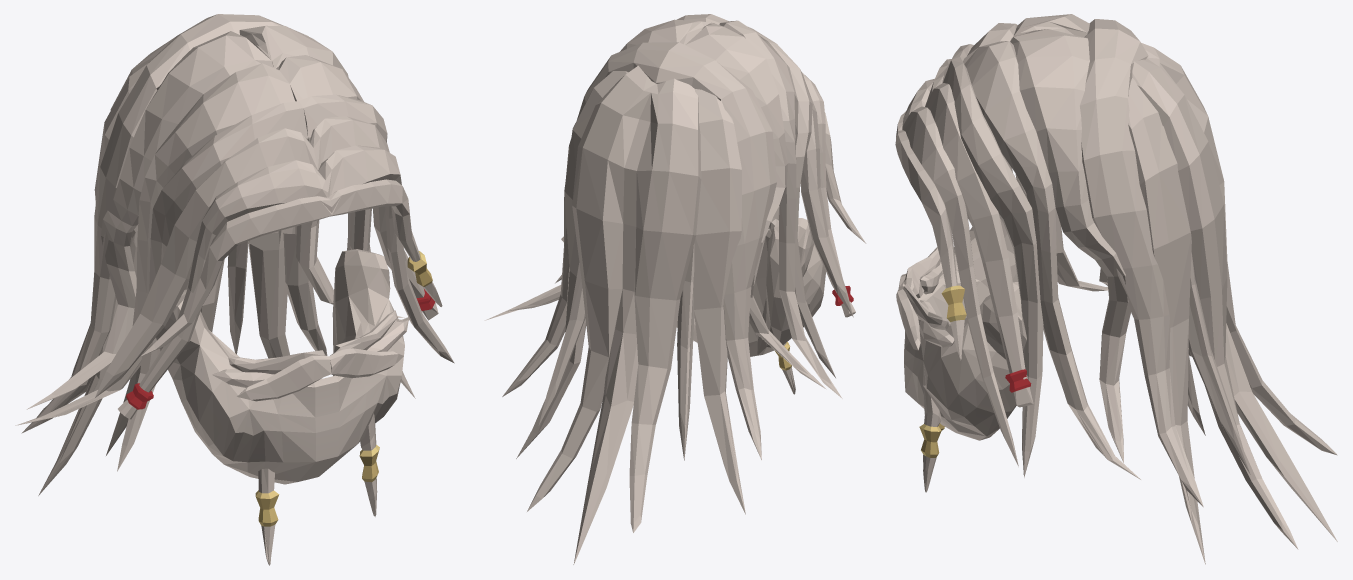
Rendered from greekZeusHairSimple.glb.
3 views of the same model, side by side, from view 1: azimuth 30°, elevation 25°; view 2: azimuth 150°, elevation 25°; view 3: azimuth 270°, elevation 25° (orthographic). The views are drawn at different scales.
Visible parts, largest first — view 1: greekZeusHairSimple; view 2: greekZeusHairSimple; view 3: greekZeusHairSimple.
Boxes of the visible parts, bbox=[...] form: greekZeusHairSimple: bbox=[15, 14, 454, 565]; greekZeusHairSimple: bbox=[484, 14, 866, 564]; greekZeusHairSimple: bbox=[895, 14, 1337, 564].
Size of the model in its own units: 0.4402 by 0.5419 by 0.4201.
